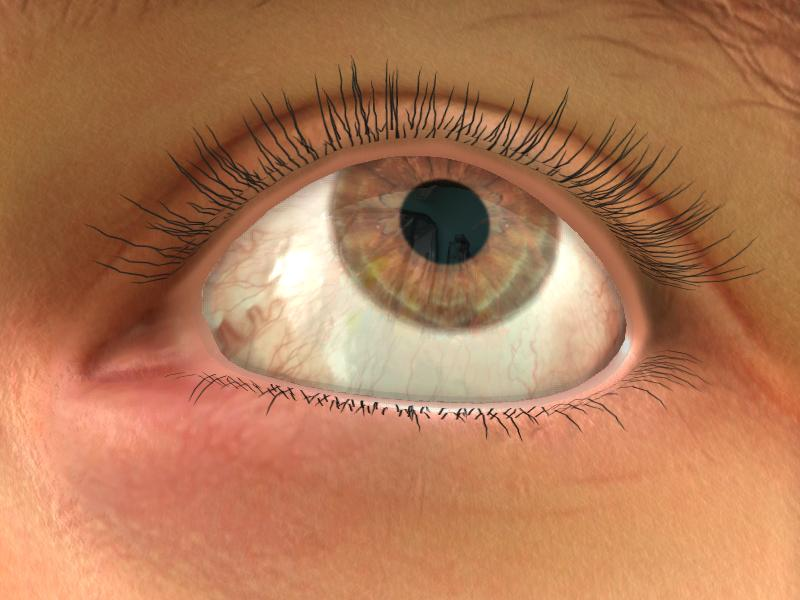eye: (328, 157, 552, 332)
